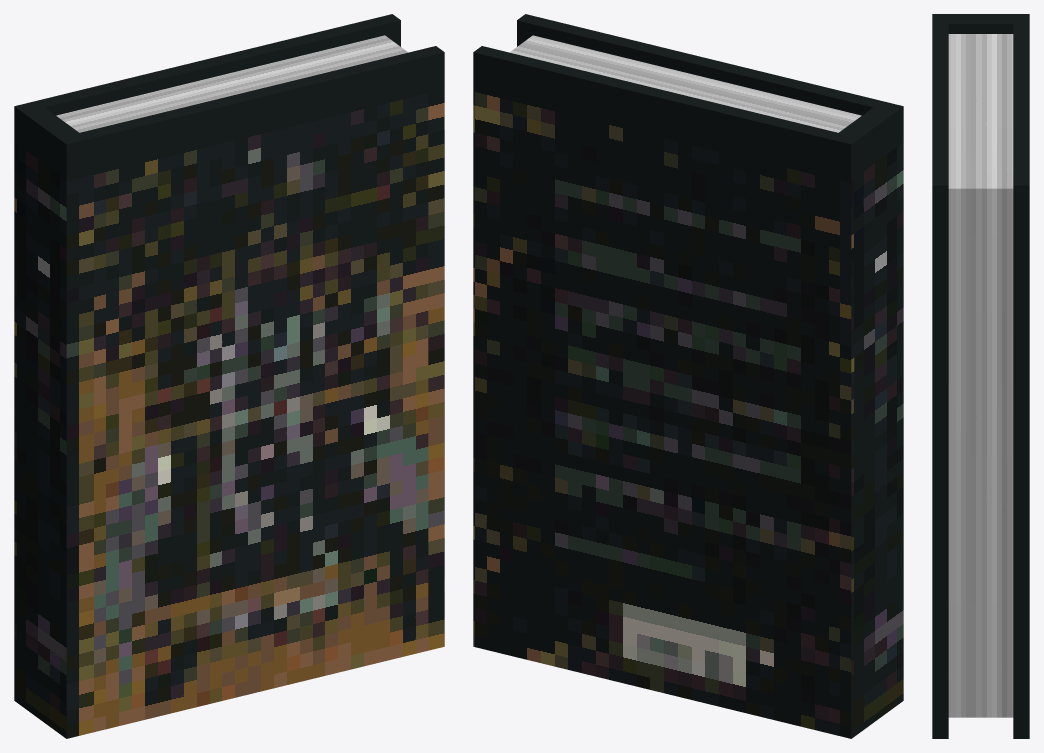
The model's file is book_blue_07.fbx.
3 renders of one model, left to right at view 1: azimuth 30°, elevation 25°; view 2: azimuth 150°, elevation 25°; view 3: azimuth 270°, elevation 25°, orthographic. The views are drawn at different scales.
Visible parts, largest first — view 1: Book_Blue_7; view 2: Book_Blue_7; view 3: Book_Blue_7.
Part boxes in pixels (<box>): Book_Blue_7: <box>14,14,444,738</box>; Book_Blue_7: <box>473,14,903,738</box>; Book_Blue_7: <box>932,14,1029,738</box>.
Bounding box in the file's own units: 15.92 × 23.91 × 3.81.
